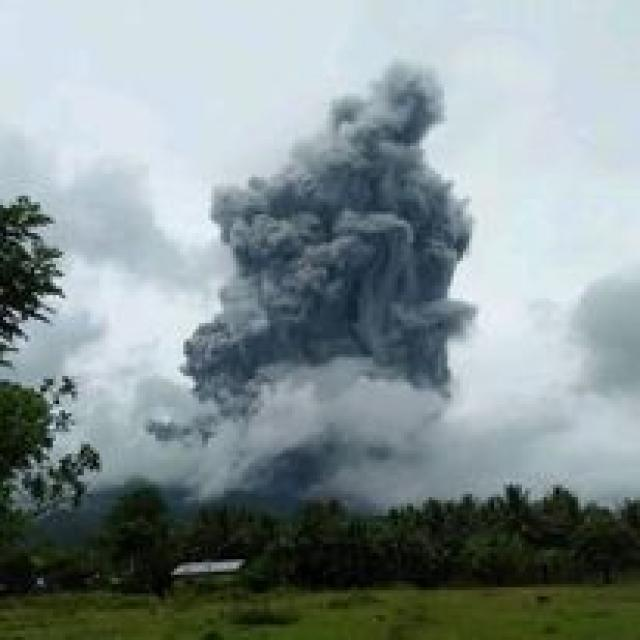Smoke: (241, 89, 471, 379), (170, 328, 403, 484)
